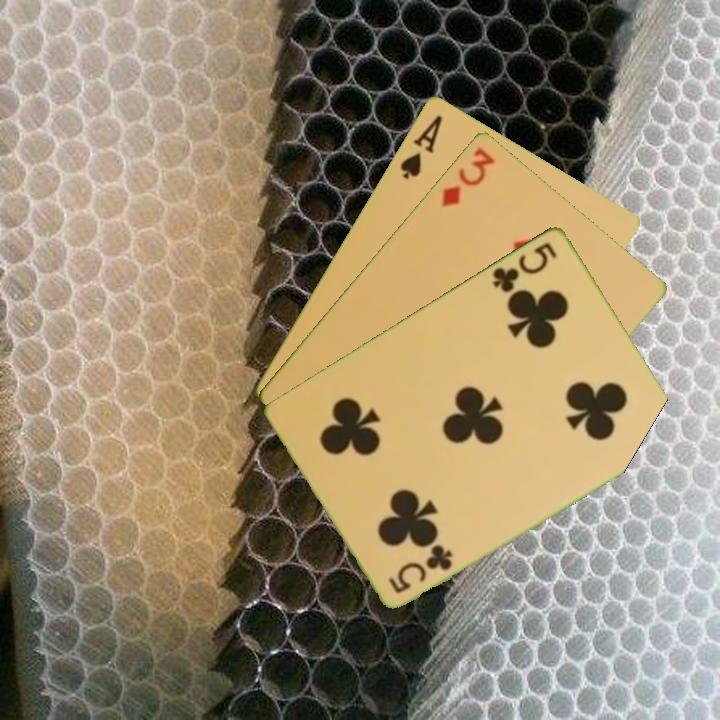3d: (437, 143, 498, 211)
5c: (489, 238, 560, 295), (385, 541, 456, 596)
As: (396, 110, 446, 182)
